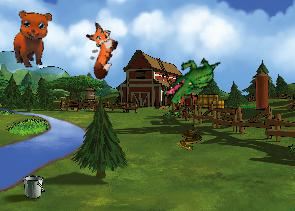bear: (11, 8, 56, 69)
crocodile: (160, 45, 222, 114)
fox: (73, 20, 124, 81)
